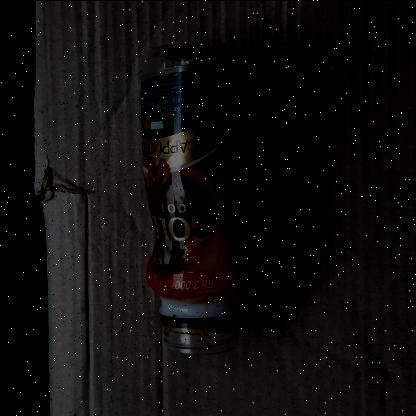Plastic Bottle: (138, 37, 254, 357)
